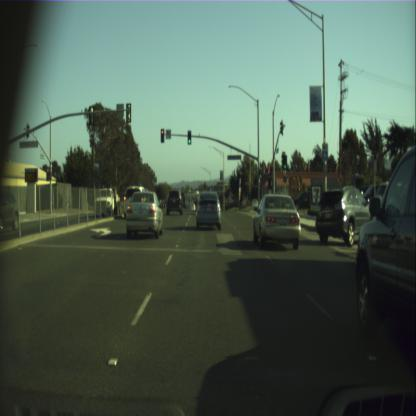Green: (187, 130, 191, 144), (283, 155, 286, 169), (258, 168, 262, 178)
RedLeft: (160, 128, 164, 144)
